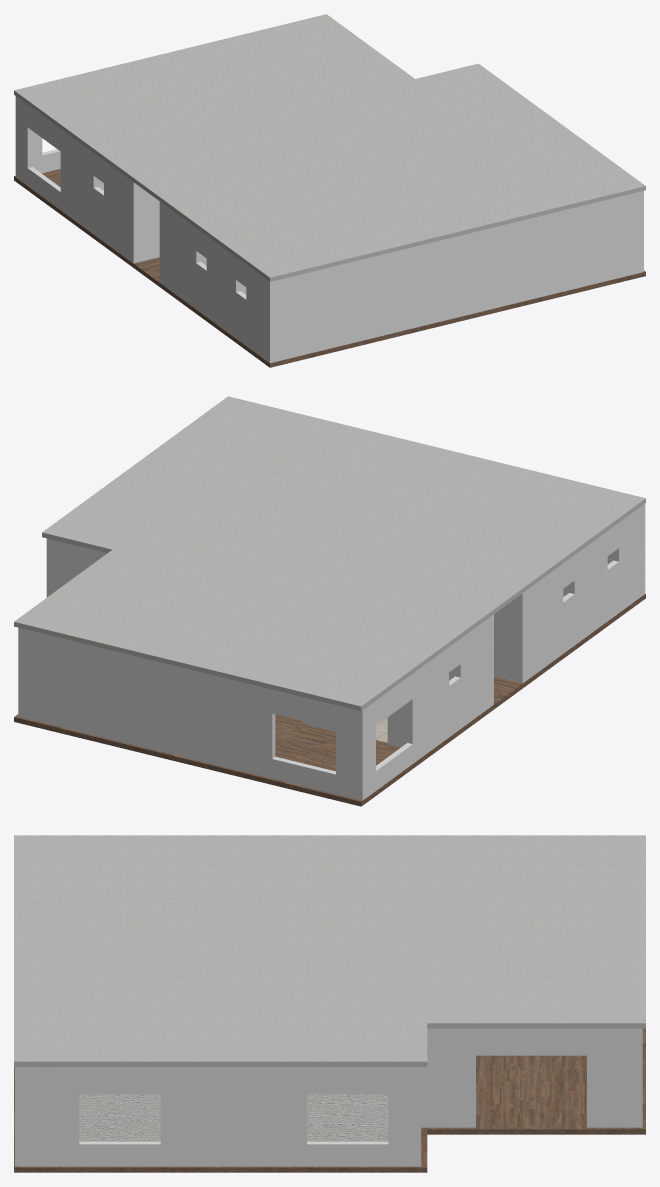
The model's file is G_P_room_splitted.fbx.
3 renders of one model, top to bottom at view 1: azimuth 30°, elevation 25°; view 2: azimuth 150°, elevation 25°; view 3: azimuth 270°, elevation 25°, orthographic. The views are drawn at different scales.
Visible parts, largest first — view 1: Decke, Waende, Boden, Waende.002; view 2: Decke, Waende, Boden, Waende.002; view 3: Decke, Waende, Boden, boden_klschlaf, boden_grschlaf.
Part boxes in pixels (x1,y1,x2,y2): Decke: (14,14,645,281); Waende: (15,96,643,362); Boden: (14,169,645,367); Waende.002: (32,131,60,173); Decke: (14,396,645,711); Waende: (18,504,645,800); Boden: (14,593,645,806); Waende.002: (303,703,407,747); Decke: (14,835,645,1066); Waende: (15,1028,642,1166); Boden: (14,1028,645,1172); boden_klschlaf: (307,1094,388,1141); boden_grschlaf: (79,1094,160,1141).
Size of the model in its own units: 1432 by 328 by 1689.
